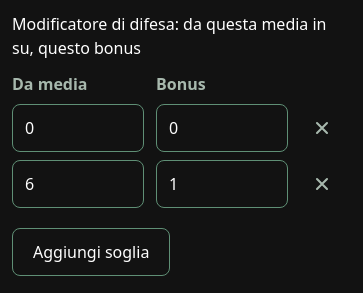
Test: ThresholdsTable › toglie una riga
Click the 1st button named "Togli riga 1" at (322, 128), box top-left (300, 106), bottom-right (344, 150)
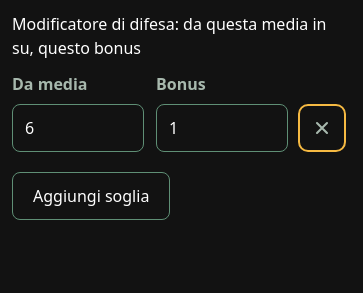
Expected: the number of rows is 2, top-left (12, 68), bottom-right (344, 100); top-left (12, 100), bottom-right (344, 156)
Expected: the 1st number field named "soglia da media, riga 1" holds "6", top-left (12, 104), bottom-right (144, 152)
